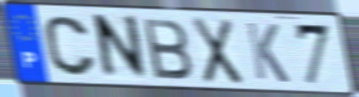7: (291, 21, 335, 86)
B: (140, 16, 195, 81)
C: (42, 14, 99, 79)
K: (243, 20, 292, 85)
N: (94, 12, 149, 82)
X: (190, 15, 245, 87)
